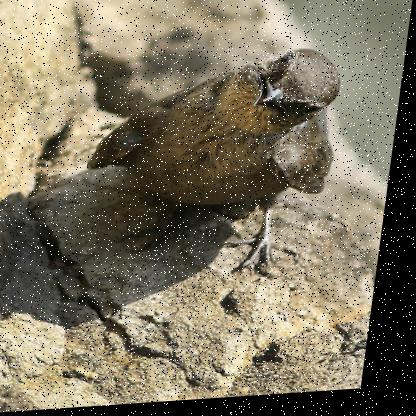Burung: (81, 51, 351, 293)
